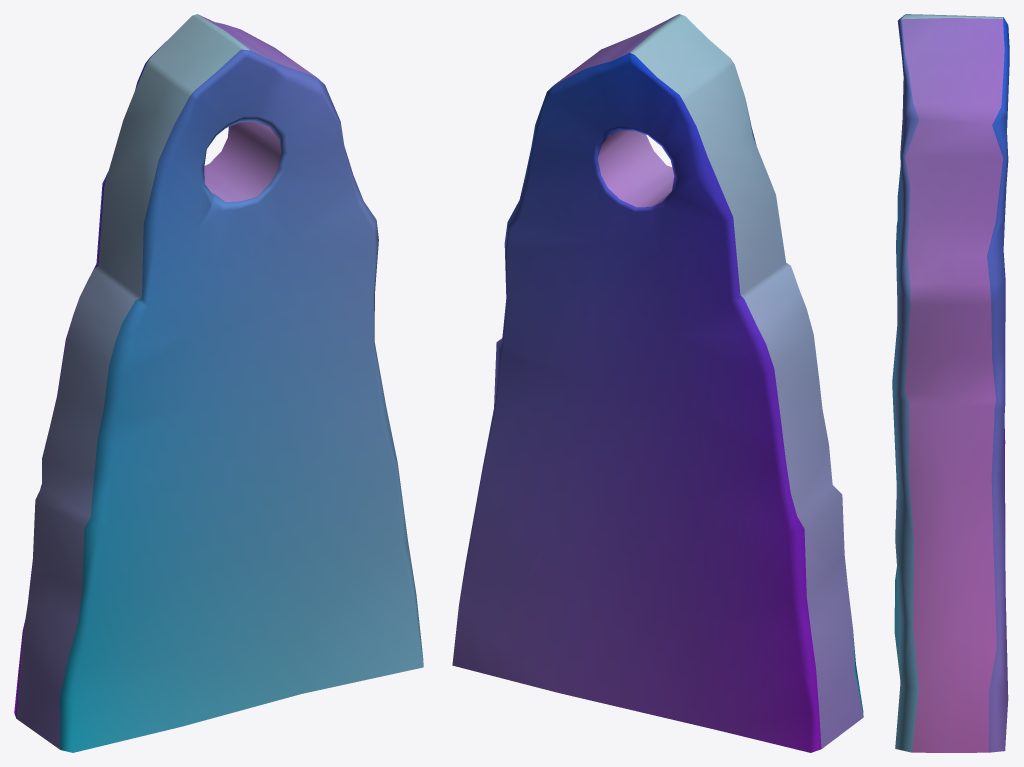
The picture shows the model from 3 angles, left to right: view 1: azimuth 30°, elevation 25°; view 2: azimuth 150°, elevation 25°; view 3: azimuth 270°, elevation 25°; orthographic projection.
Parts seen in each view (by area): view 1: SM_LoggingAxe_Mithril_2H_01_LOD0; view 2: SM_LoggingAxe_Mithril_2H_01_LOD0; view 3: SM_LoggingAxe_Mithril_2H_01_LOD0.
Part boxes in pixels (box(x1,y1,x2,y2)): SM_LoggingAxe_Mithril_2H_01_LOD0: box(14, 14, 423, 752); SM_LoggingAxe_Mithril_2H_01_LOD0: box(452, 14, 863, 752); SM_LoggingAxe_Mithril_2H_01_LOD0: box(892, 14, 1009, 752).
Bounding box in the file's own units: 3.84 × 6.58 × 1.08.
